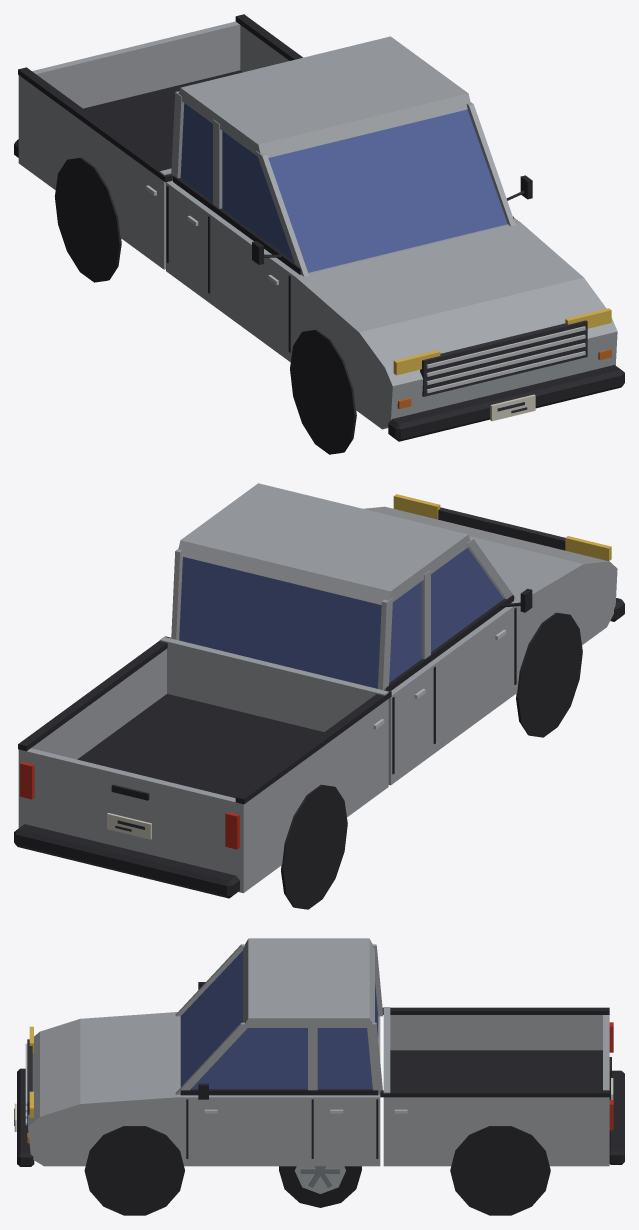
The model's file is pickup.glb.
3 renders of one model, top to bottom at view 1: azimuth 30°, elevation 25°; view 2: azimuth 150°, elevation 25°; view 3: azimuth 270°, elevation 25°, orthographic. The views are drawn at different scales.
Parts seen in each view (by area): view 1: body, lights; view 2: body, lights; view 3: body, wheel0, lights.
Boxes of the visible parts, x1,y1,x2,y2 form: body: (14,14,624,454); lights: (393,308,611,375); body: (14,483,624,909); lights: (20,494,611,849); body: (14,938,624,1215); wheel0: (279,1166,361,1207); lights: (29,1022,613,1130).
Bounding box in the file's own units: 2.25 × 2.27 × 5.6.
